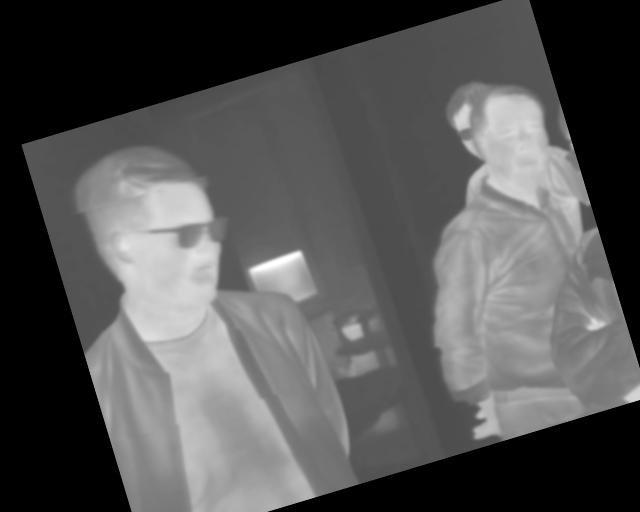face: (60, 124, 244, 332), (459, 73, 564, 199)
